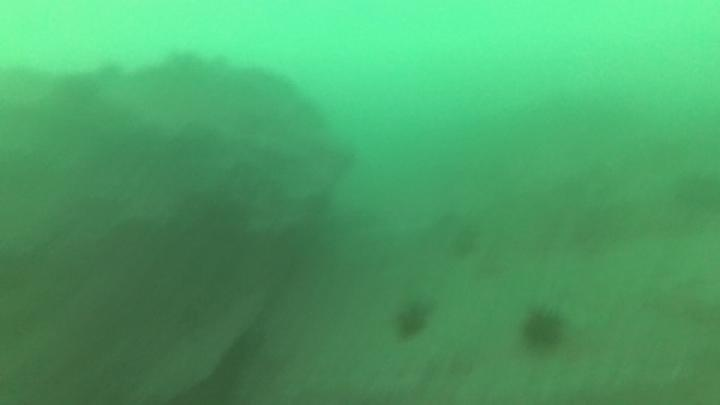echinus: (517, 304, 568, 355), (390, 298, 434, 344), (446, 222, 483, 262)
